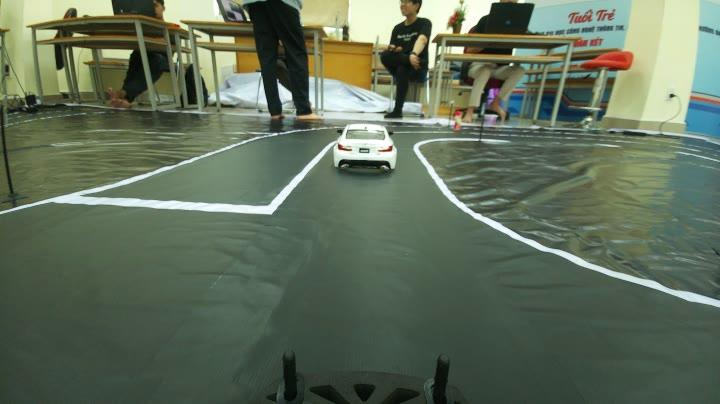car: (332, 113, 404, 178)
